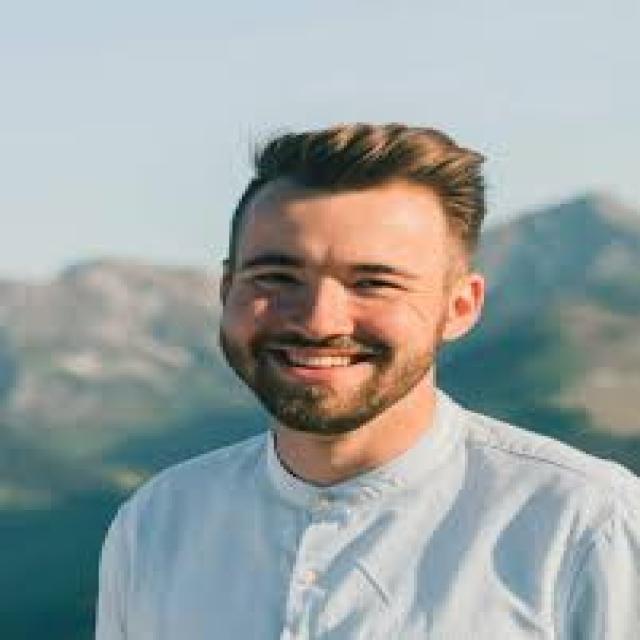mobile_phonerotation: (79, 118, 636, 638)
